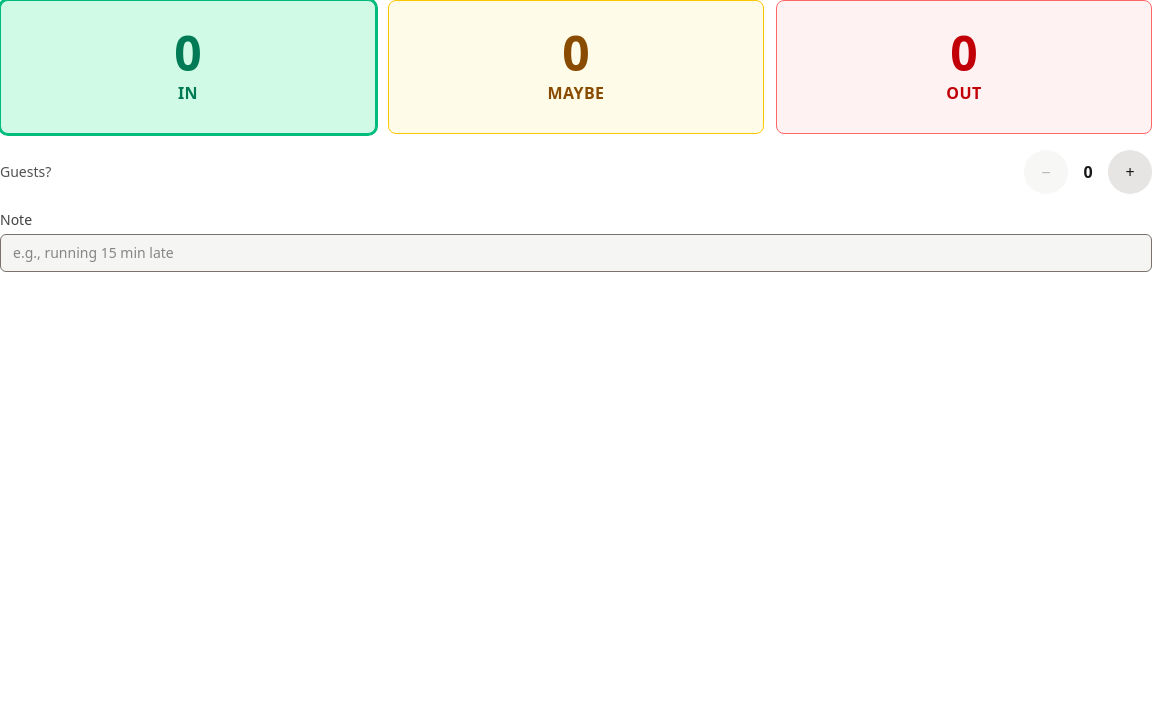
Scenario: RsvpControls › opens a confirmation dialog (and does not submit) when changing an already-set status
Click the button named "out count". click: (964, 67)
box: [776, 0, 1151, 134]
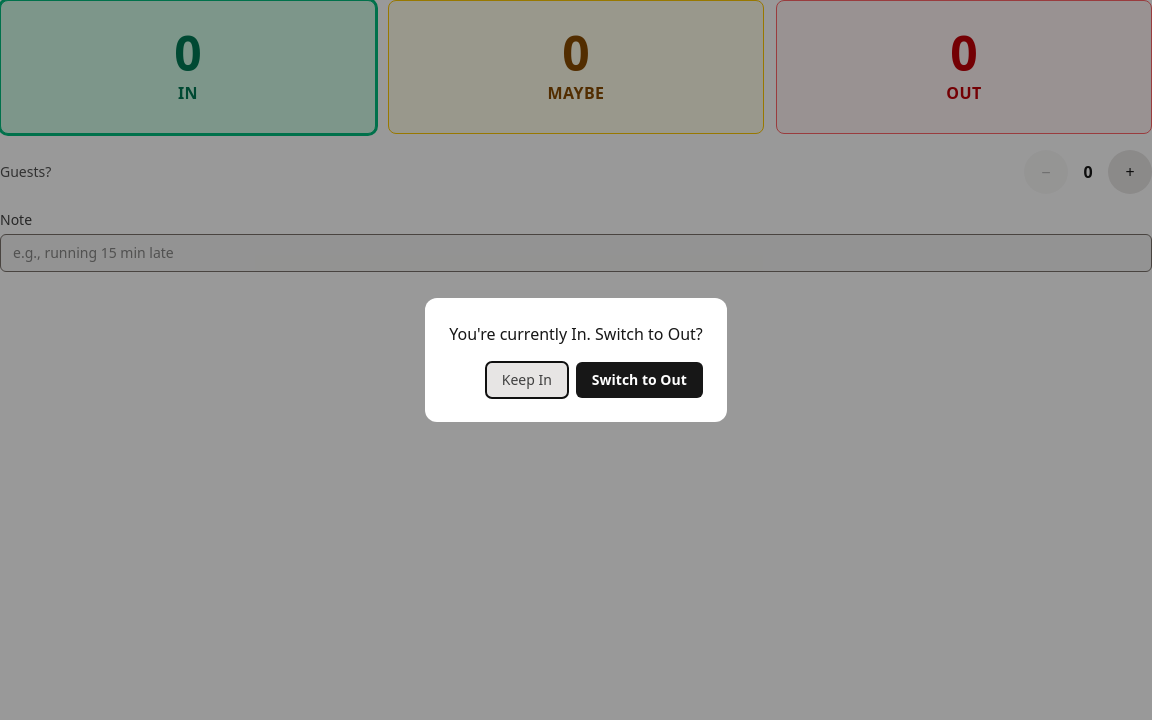
expect the dialog is shown: met, box [425, 298, 727, 422]
expect the text "You're currently In. Switch to Out?" is shown: met, box [449, 322, 703, 346]
